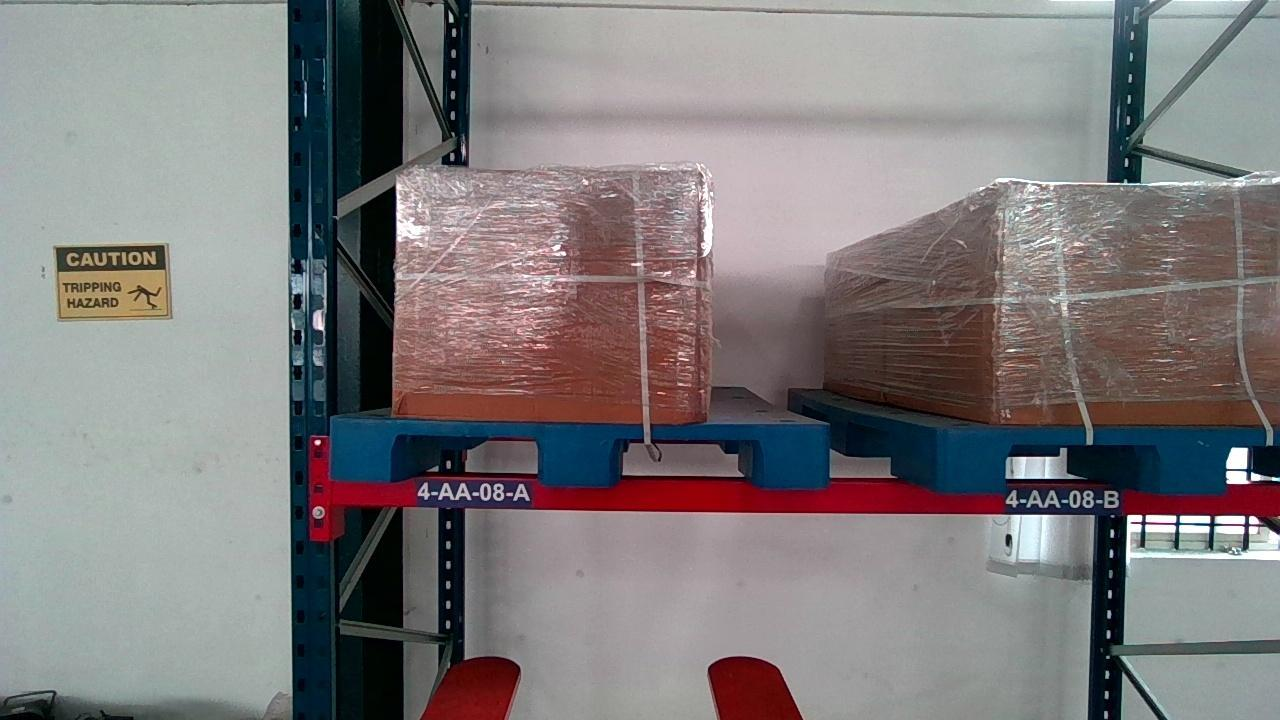h_rack: (328, 475, 1280, 514)
small_pallet: (328, 419, 825, 488), (953, 432, 1280, 486)
